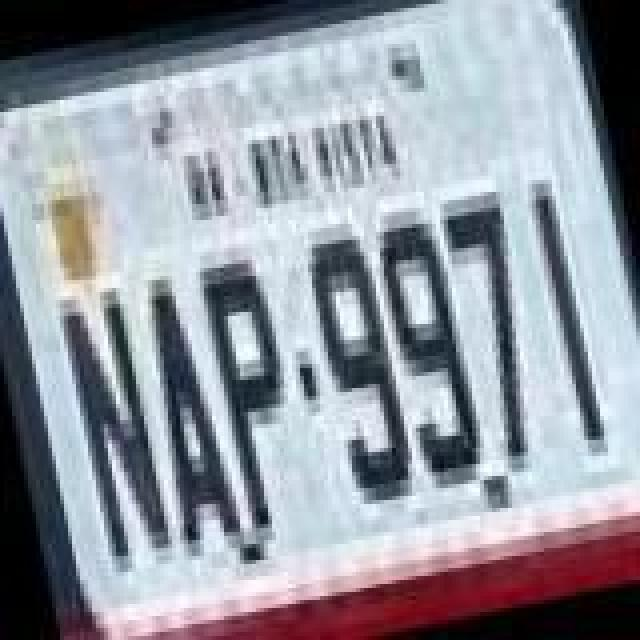1: (520, 166, 616, 466)
7: (434, 182, 558, 474)
9: (366, 200, 498, 504), (296, 222, 424, 514)
A: (122, 262, 246, 562)
N: (52, 280, 180, 584)
P: (194, 246, 318, 538)
